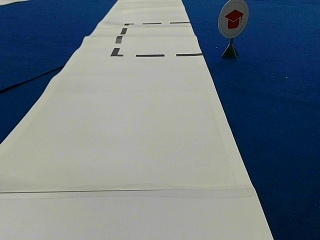school: (216, 2, 248, 37)
